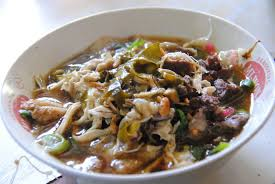soto: (10, 10, 275, 181)
